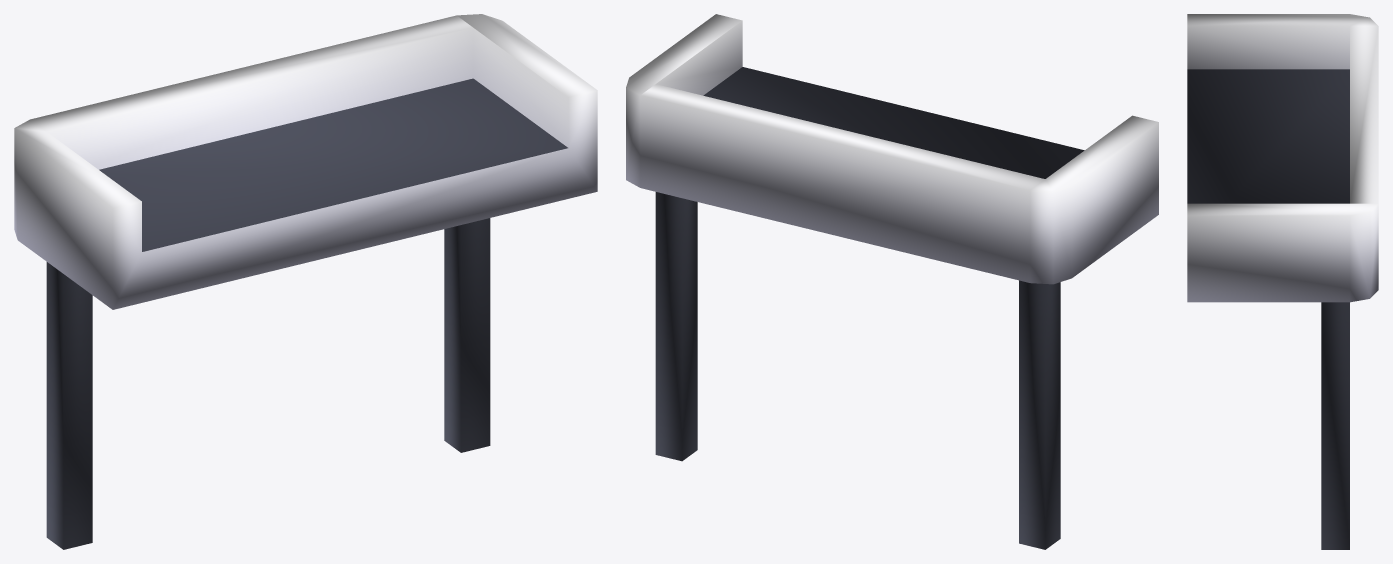
File: detail-overhang_lev1.glb
3 views of the same model, side by side, from view 1: azimuth 30°, elevation 25°; view 2: azimuth 150°, elevation 25°; view 3: azimuth 270°, elevation 25° (orthographic). The views are drawn at different scales.
Visible parts, largest first — view 1: detail-overhang_lev1; view 2: detail-overhang_lev1; view 3: detail-overhang_lev1.
Part boxes in pixels (box(x1,y1,x2,y2)): detail-overhang_lev1: box(14, 14, 597, 549); detail-overhang_lev1: box(626, 14, 1158, 549); detail-overhang_lev1: box(1187, 14, 1378, 549).
Bounding box in the file's own units: 0.5 × 0.4 × 0.2.
Materials: 1 (1 with a texture image).
